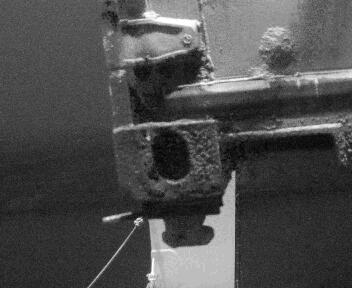twist_lock_1: (104, 206, 201, 258)
